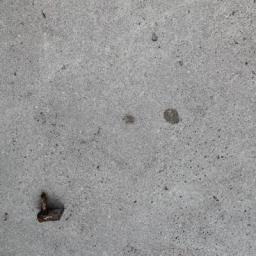FOD: (35, 187, 69, 228)
